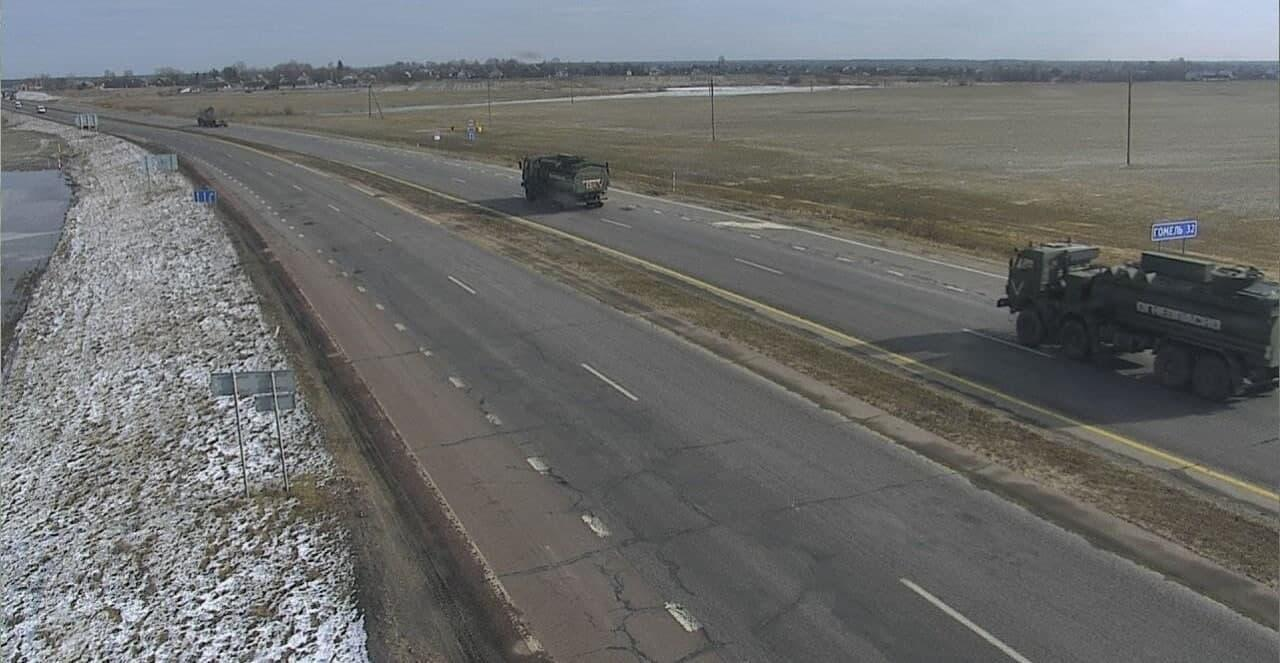truck: (994, 218, 1273, 401), (514, 150, 616, 226), (192, 101, 231, 128)
